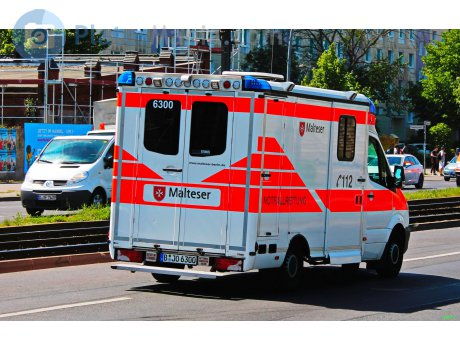License Plates: (158, 246, 202, 263)
